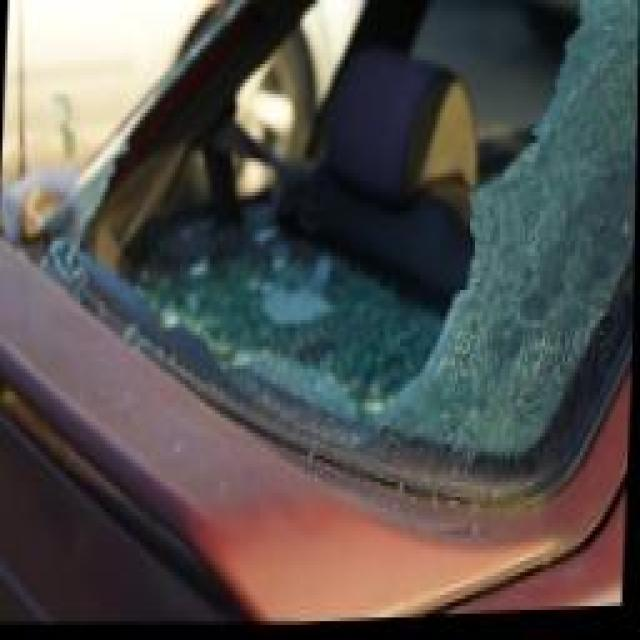Windshield: (65, 0, 603, 482)
